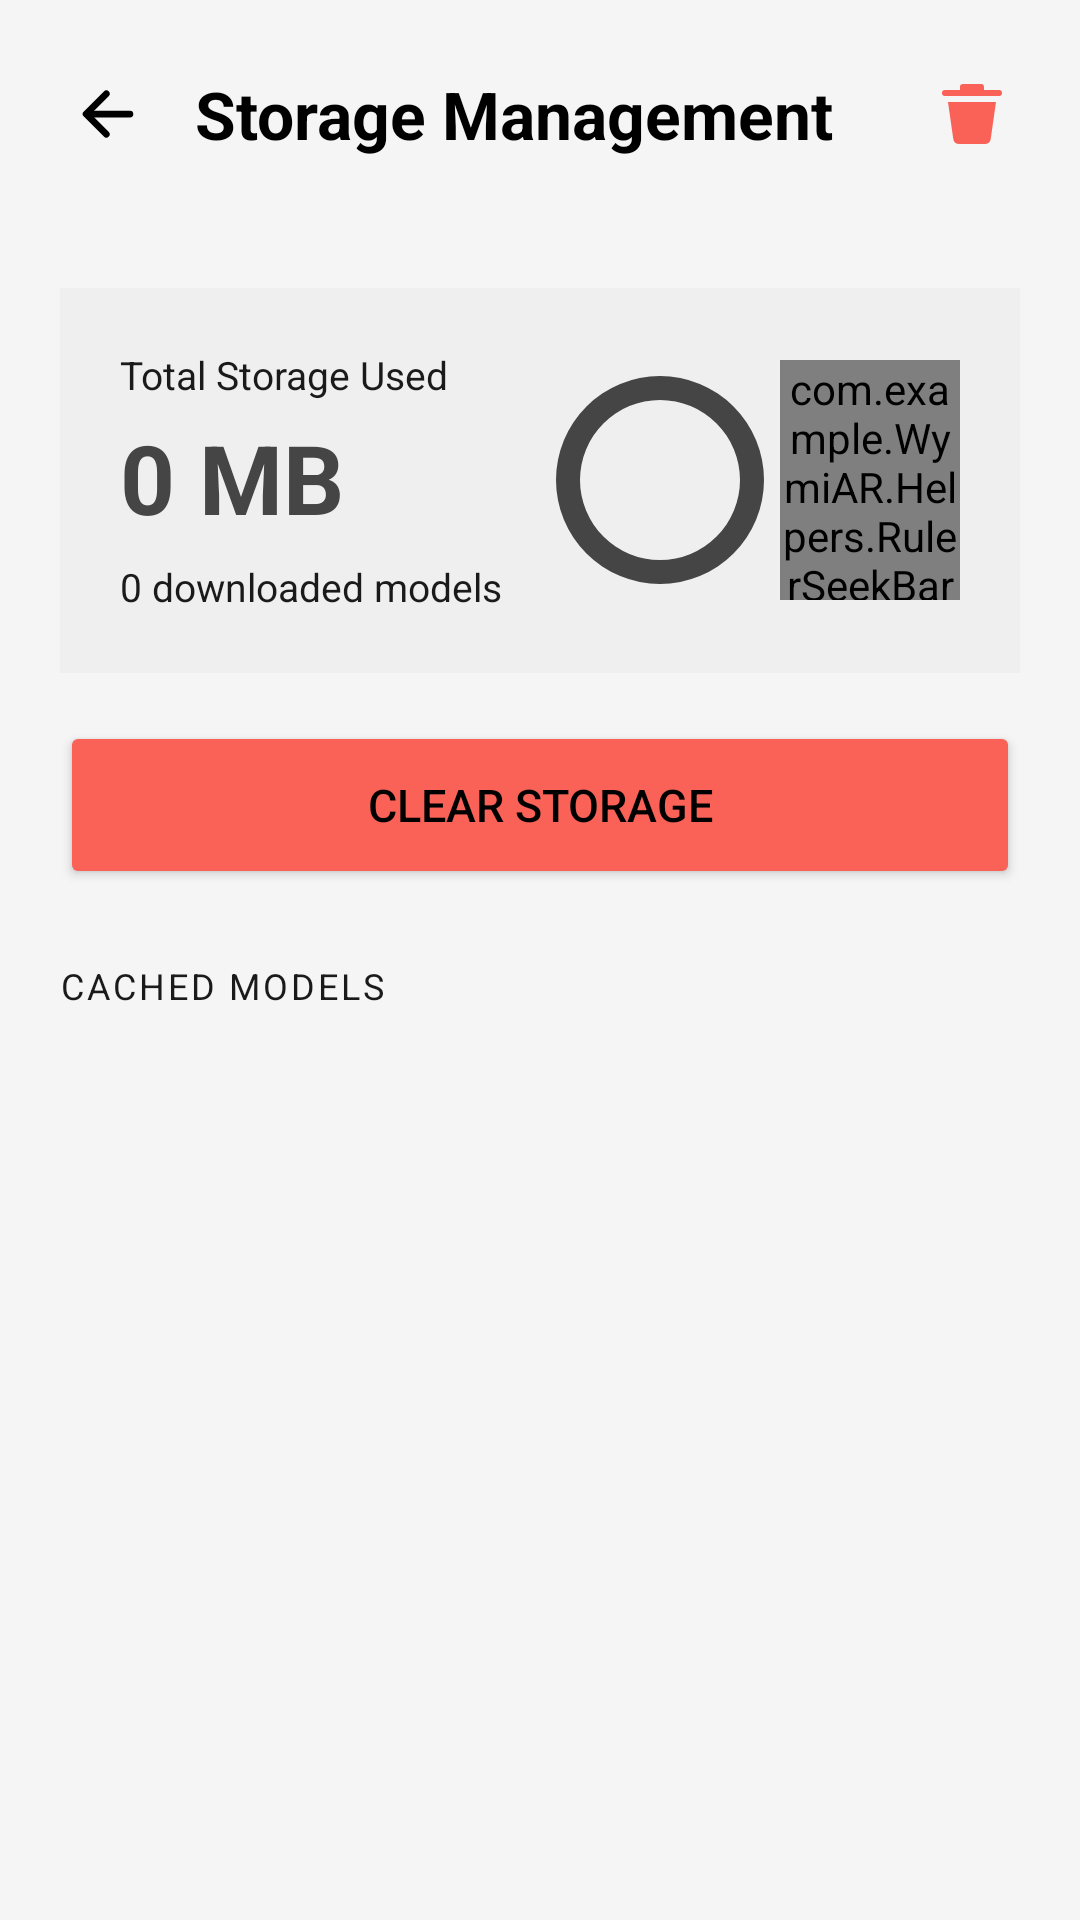

Screen size 1080px x 1920px. Icon name, then its box in pixels as detection(x1, y1, x2, y2):
Back: detection(82, 90, 134, 138)
Clear Cache: detection(942, 84, 1002, 144)
